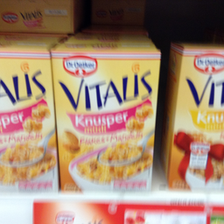cereal: (51, 44, 160, 192), (163, 42, 224, 189), (1, 39, 59, 191)
